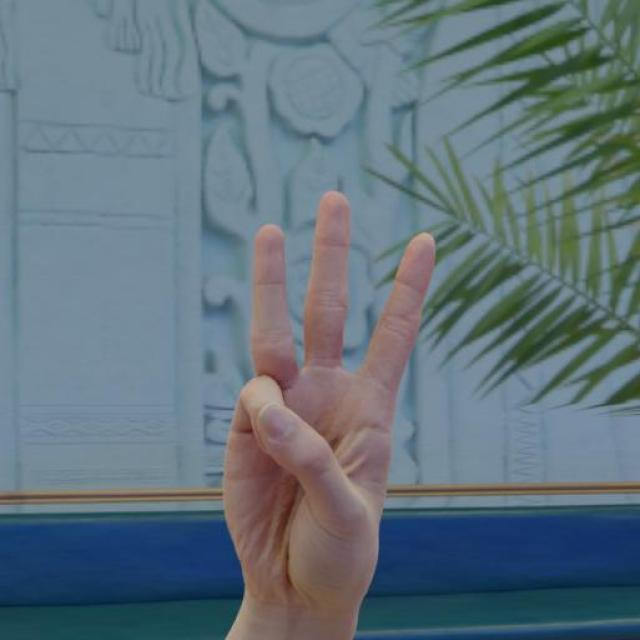W: (224, 190, 441, 614)
